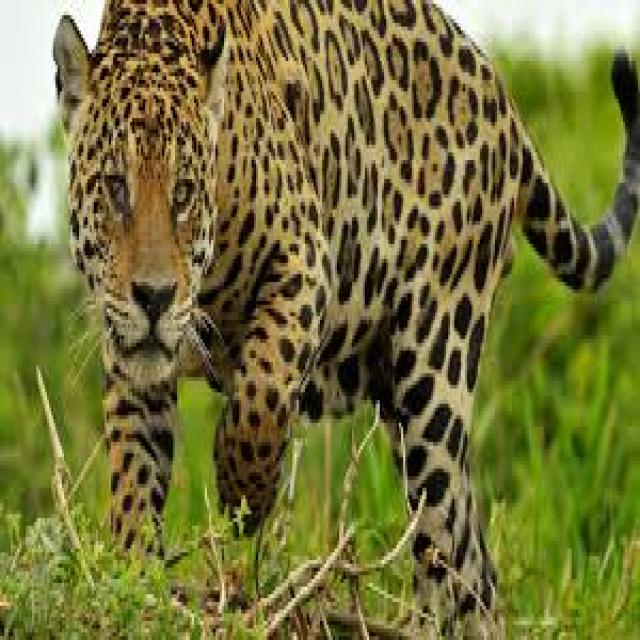Jaguar: (38, 0, 622, 613)
